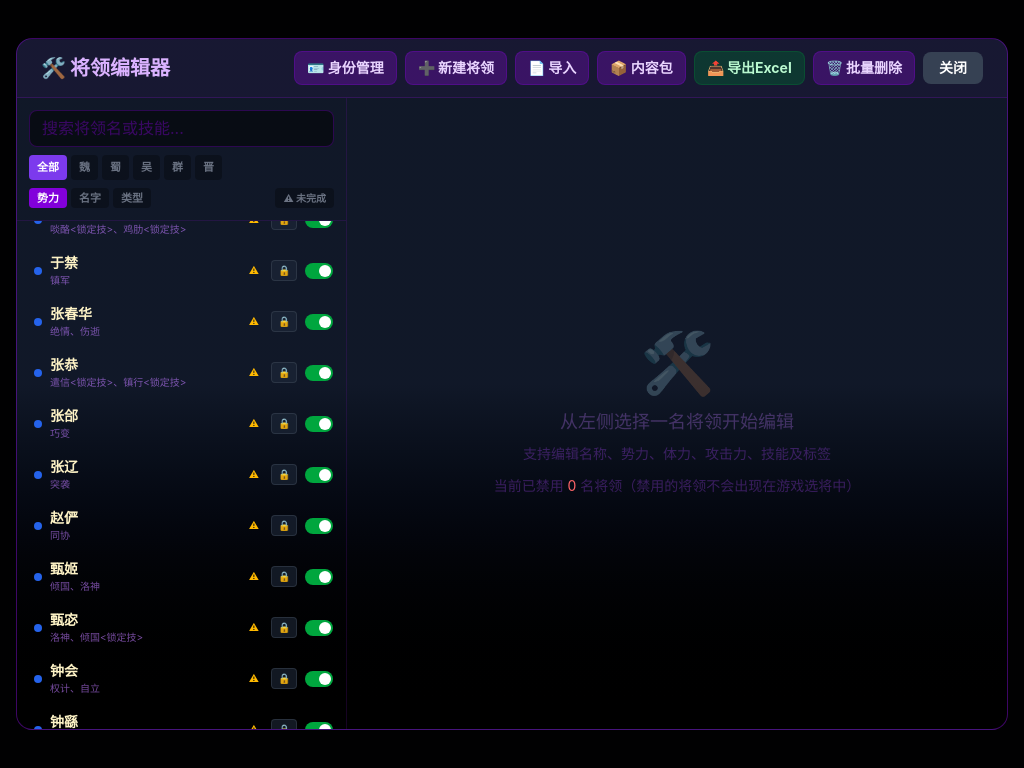
Test: 自己写效果：生成 → 确认 → 进积木 › 写一句能懂的话：先给出"系统会怎么说"，采用后进的就是那几格积木
The image size is (1024, 768).
(page scrolled)
Click the button "张辽 突袭 ⚠" at (146, 475), box [26,451,267,498]
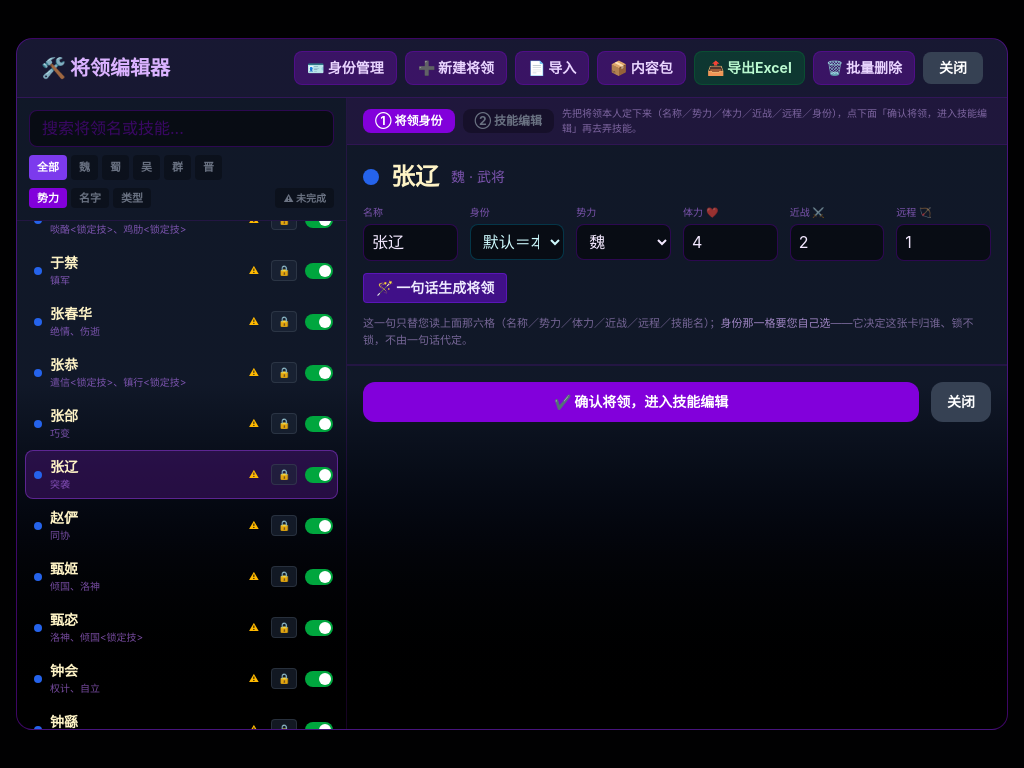
Click the button "② 技能编辑" at (508, 121), box [462,109,554,133]
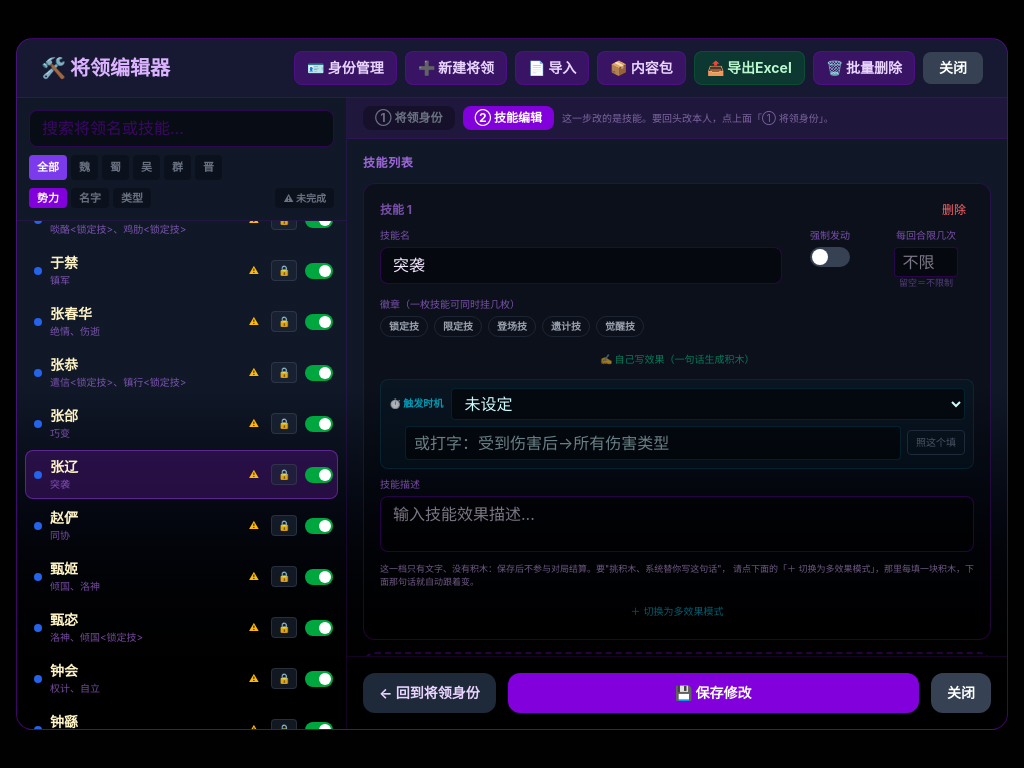
Click the button "✍️ 自己写效果（一句话生成积木）" at (677, 359), box [380,348,974,371]
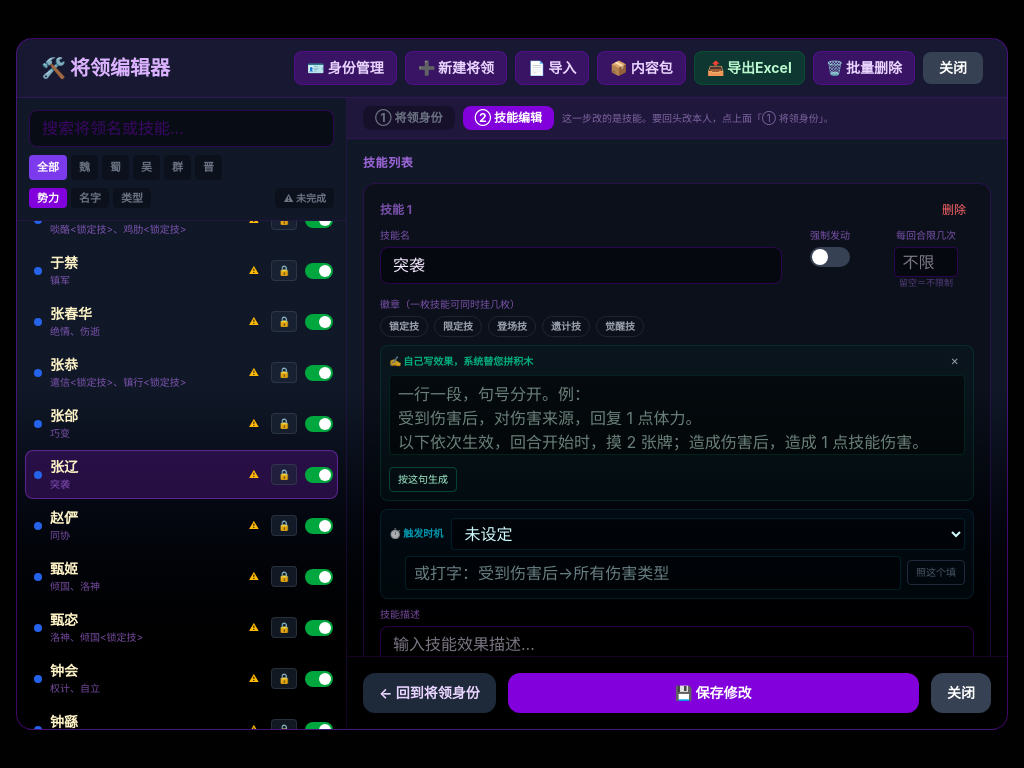
Replace the text in the text box named "自己写效果" with "受到伤害后，对伤害来源，回复 1 点体力。" at (677, 415), box [389,375,965,455]
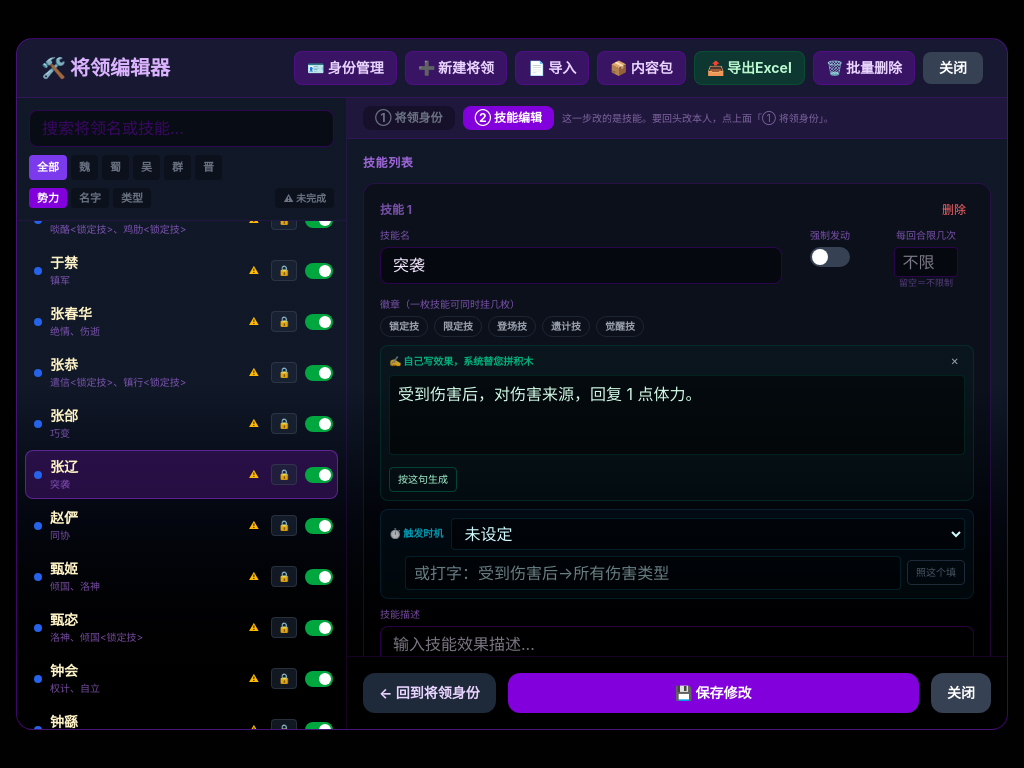
Click the button "按这句生成" at (423, 479), box [389,467,457,492]
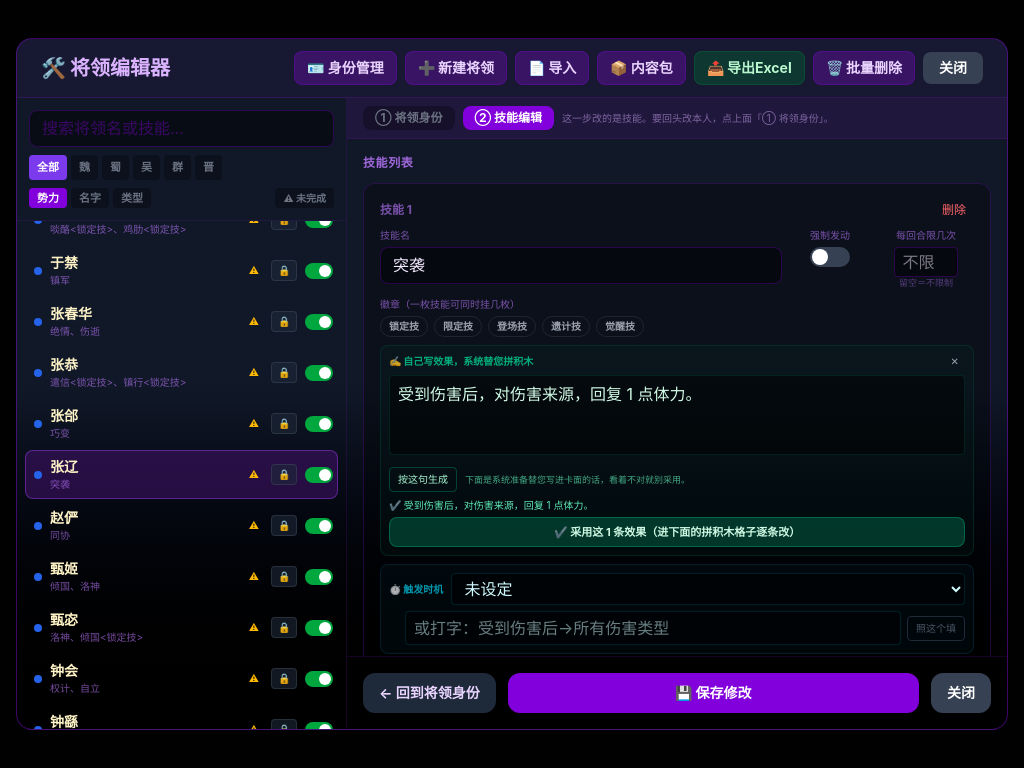
expect the list item "✔ 受到伤害后，对伤害来源，回复 1 点体力。" is shown: met, box [389,499,594,511]
Click the button "✔ 采用这 1 条效果（进下面的拼积木格子逐条改）" at (677, 532), box [389,517,965,547]
(page scrolled)
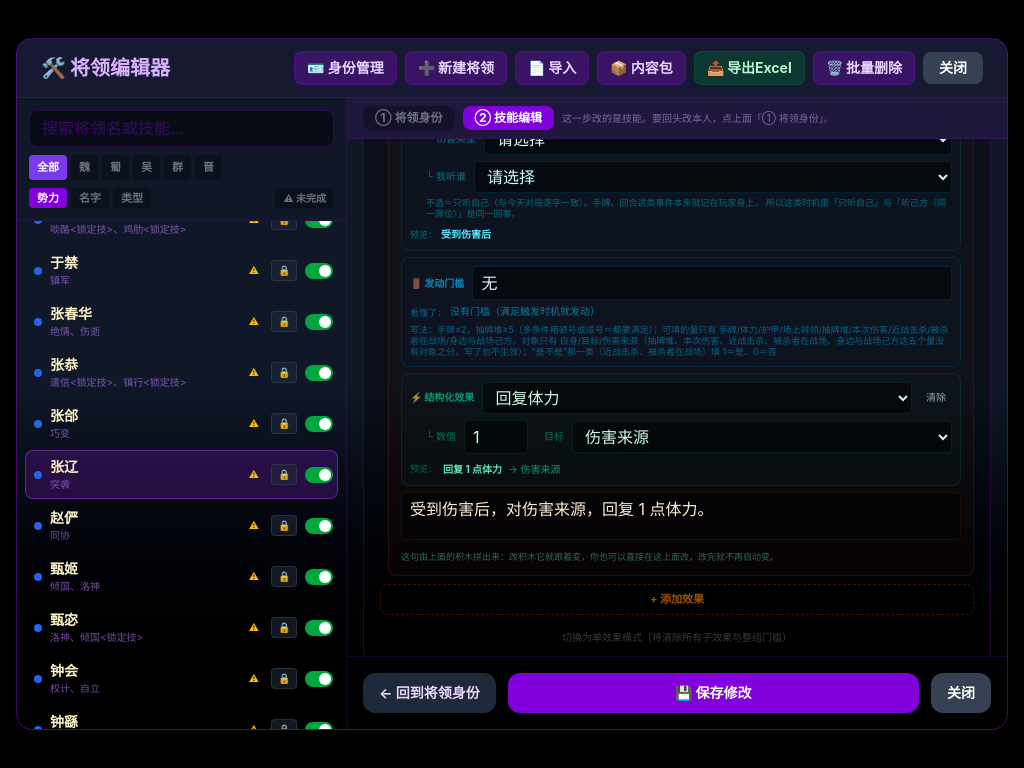
expect the text box named "效果1卡面文字" holds "受到伤害后，对伤害来源，回复 1 点体力。": met, box [401,492,961,540]
expect the dropdown next to "⚡ 结构化效果" shows "回复体力": met, box [482,382,912,414]
